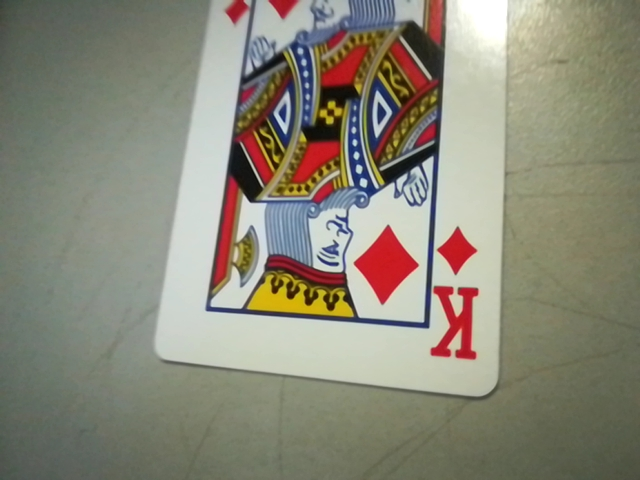fk k: (426, 226, 488, 373)
